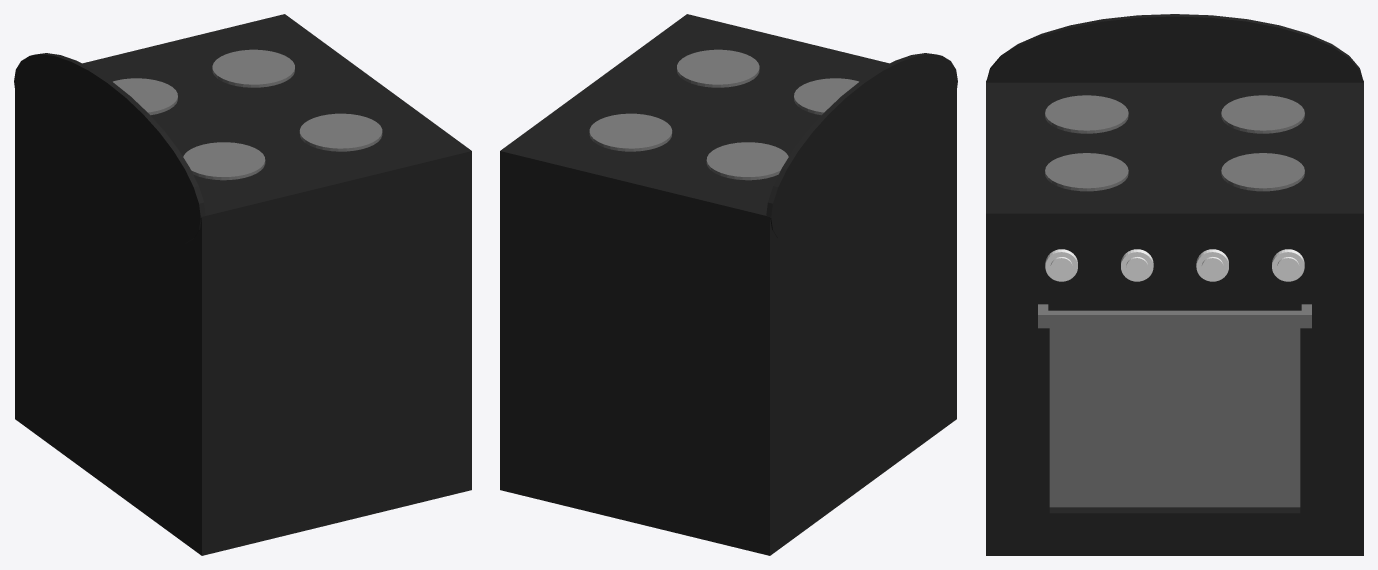
The model's file is Horno.fbx.
3 views of the same model, side by side, from view 1: azimuth 30°, elevation 25°; view 2: azimuth 150°, elevation 25°; view 3: azimuth 270°, elevation 25° (orthographic).
Parts seen in each view (by area): view 1: Cube, Cylinder.008, Cylinder.009, Cylinder.010, Cylinder.011, Cylinder.012; view 2: Cube, Cylinder.008, Cylinder.010, Cylinder.009, Cylinder.012, Cylinder.011; view 3: Cube, Cylinder.008, Cube.001, Cylinder.009, Cylinder.010, Cylinder.011, Cylinder.012, Cylinder, Cylinder.003, Cylinder.001, Cylinder.002.
Part boxes in pixels (bbox=[...]): Cube: bbox=[15, 14, 471, 555]; Cylinder.008: bbox=[14, 53, 205, 244]; Cylinder.009: bbox=[299, 113, 382, 151]; Cylinder.010: bbox=[212, 49, 294, 87]; Cylinder.011: bbox=[183, 142, 265, 180]; Cylinder.012: bbox=[113, 78, 177, 115]; Cube: bbox=[500, 14, 956, 555]; Cylinder.008: bbox=[766, 53, 957, 244]; Cylinder.010: bbox=[589, 113, 672, 151]; Cylinder.009: bbox=[677, 49, 759, 87]; Cylinder.012: bbox=[706, 142, 788, 180]; Cylinder.011: bbox=[794, 78, 858, 115]; Cube: bbox=[986, 80, 1363, 555]; Cylinder.008: bbox=[986, 14, 1363, 82]; Cube.001: bbox=[1038, 304, 1311, 328]; Cylinder.009: bbox=[1045, 153, 1128, 191]; Cylinder.010: bbox=[1221, 153, 1304, 191]; Cylinder.011: bbox=[1045, 95, 1128, 133]; Cylinder.012: bbox=[1221, 95, 1304, 133]; Cylinder: bbox=[1045, 249, 1077, 281]; Cylinder.003: bbox=[1272, 249, 1304, 281]; Cylinder.001: bbox=[1121, 249, 1153, 281]; Cylinder.002: bbox=[1196, 249, 1228, 281].
Size of the model in its own units: 60 by 54.18 by 71.6.
